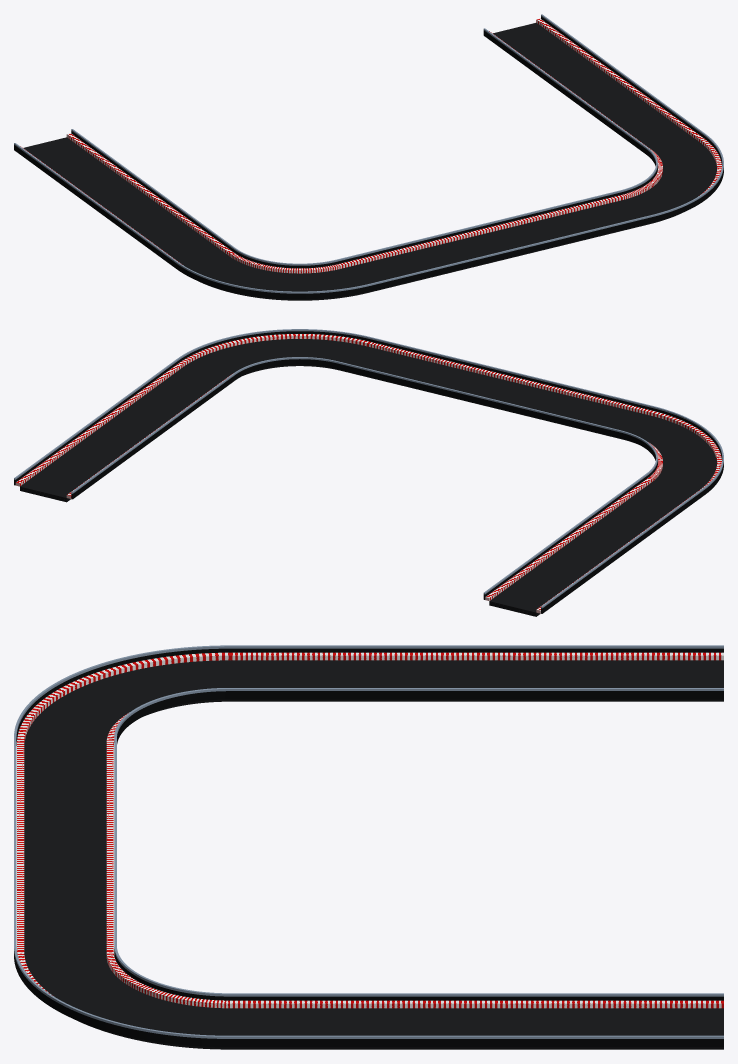
The model's file is S016_SHORT_SEED_1601.glb.
3 renders of one model, top to bottom at view 1: azimuth 30°, elevation 25°; view 2: azimuth 150°, elevation 25°; view 3: azimuth 270°, elevation 25°, orthographic. The views are drawn at different scales.
Parts seen in each view (by area): view 1: S016_SHORT_SEED_1601__instance_002__TRACK_CURVE_LEFT_90__ROA, S016_SHORT_SEED_1601__instance_001__TRACK_STRAIGHT_MEDIUM__R, S016_SHORT_SEED_1601__instance_006__TRACK_STRAIGHT_MEDIUM__R, S016_SHORT_SEED_1601__instance_007__TRACK_STRAIGHT_MEDIUM__R, S016_SHORT_SEED_1601__instance_000__TRACK_STRAIGHT_MEDIUM__R, S016_SHORT_SEED_1601__instance_005__TRACK_CURVE_LEFT_90__ROA, S016_SHORT_SEED_1601__instance_003__TRACK_STRAIGHT_MEDIUM__R, S016_SHORT_SEED_1601__instance_004__TRACK_STRAIGHT_MEDIUM__R, S016_SHORT_SEED_1601__instance_003__TRACK_STRAIGHT_MEDIUM__S (×2), S016_SHORT_SEED_1601__instance_004__TRACK_STRAIGHT_MEDIUM__S (×2), S016_SHORT_SEED_1601__instance_005__TRACK_CURVE_LEFT_90__SUP, S016_SHORT_SEED_1601__instance_003__TRACK_STRAIGHT_MEDIUM__C (+12 smaller); view 2: S016_SHORT_SEED_1601__instance_005__TRACK_CURVE_LEFT_90__ROA, S016_SHORT_SEED_1601__instance_007__TRACK_STRAIGHT_MEDIUM__R, S016_SHORT_SEED_1601__instance_000__TRACK_STRAIGHT_MEDIUM__R, S016_SHORT_SEED_1601__instance_002__TRACK_CURVE_LEFT_90__ROA, S016_SHORT_SEED_1601__instance_001__TRACK_STRAIGHT_MEDIUM__R, S016_SHORT_SEED_1601__instance_006__TRACK_STRAIGHT_MEDIUM__R, S016_SHORT_SEED_1601__instance_004__TRACK_STRAIGHT_MEDIUM__R, S016_SHORT_SEED_1601__instance_003__TRACK_STRAIGHT_MEDIUM__R, S016_SHORT_SEED_1601__instance_004__TRACK_STRAIGHT_MEDIUM__S (×2), S016_SHORT_SEED_1601__instance_002__TRACK_CURVE_LEFT_90__SUP (×2), S016_SHORT_SEED_1601__instance_002__TRACK_CURVE_LEFT_90__CUR, S016_SHORT_SEED_1601__instance_003__TRACK_STRAIGHT_MEDIUM__S (+12 smaller); view 3: S016_SHORT_SEED_1601__instance_000__TRACK_STRAIGHT_MEDIUM__R (×3), S016_SHORT_SEED_1601__instance_001__TRACK_STRAIGHT_MEDIUM__R (×3), S016_SHORT_SEED_1601__instance_006__TRACK_STRAIGHT_MEDIUM__R (×3), S016_SHORT_SEED_1601__instance_007__TRACK_STRAIGHT_MEDIUM__R (×3), S016_SHORT_SEED_1601__instance_003__TRACK_STRAIGHT_MEDIUM__R, S016_SHORT_SEED_1601__instance_004__TRACK_STRAIGHT_MEDIUM__R, S016_SHORT_SEED_1601__instance_005__TRACK_CURVE_LEFT_90__ROA, S016_SHORT_SEED_1601__instance_002__TRACK_CURVE_LEFT_90__ROA, S016_SHORT_SEED_1601__instance_000__TRACK_STRAIGHT_MEDIUM__S (×2), S016_SHORT_SEED_1601__instance_001__TRACK_STRAIGHT_MEDIUM__S (×2), S016_SHORT_SEED_1601__instance_006__TRACK_STRAIGHT_MEDIUM__S (×2), S016_SHORT_SEED_1601__instance_007__TRACK_STRAIGHT_MEDIUM__S (×2) (+12 smaller).
Part boxes in pixels (x1,y1,x2,y2): S016_SHORT_SEED_1601__instance_002__TRACK_CURVE_LEFT_90__ROA: (622,142,716,224); S016_SHORT_SEED_1601__instance_001__TRACK_STRAIGHT_MEDIUM__R: (574,82,698,152); S016_SHORT_SEED_1601__instance_006__TRACK_STRAIGHT_MEDIUM__R: (104,197,228,266); S016_SHORT_SEED_1601__instance_007__TRACK_STRAIGHT_MEDIUM__R: (23,137,147,207); S016_SHORT_SEED_1601__instance_000__TRACK_STRAIGHT_MEDIUM__R: (493,22,617,92); S016_SHORT_SEED_1601__instance_005__TRACK_CURVE_LEFT_90__ROA: (186,256,367,300); S016_SHORT_SEED_1601__instance_003__TRACK_STRAIGHT_MEDIUM__R: (482,200,649,258); S016_SHORT_SEED_1601__instance_004__TRACK_STRAIGHT_MEDIUM__R: (341,234,508,292); S016_SHORT_SEED_1601__instance_003__TRACK_STRAIGHT_MEDIUM__S (×2): (479,193,652,256); S016_SHORT_SEED_1601__instance_004__TRACK_STRAIGHT_MEDIUM__S (×2): (338,227,511,290); S016_SHORT_SEED_1601__instance_005__TRACK_CURVE_LEFT_90__SUP: (176,264,370,299); S016_SHORT_SEED_1601__instance_003__TRACK_STRAIGHT_MEDIUM__C: (479,195,622,234); S016_SHORT_SEED_1601__instance_005__TRACK_CURVE_LEFT_90__ROA: (622,415,716,492); S016_SHORT_SEED_1601__instance_007__TRACK_STRAIGHT_MEDIUM__R: (489,542,613,616); S016_SHORT_SEED_1601__instance_000__TRACK_STRAIGHT_MEDIUM__R: (20,427,144,502); S016_SHORT_SEED_1601__instance_002__TRACK_CURVE_LEFT_90__ROA: (183,339,367,377); S016_SHORT_SEED_1601__instance_001__TRACK_STRAIGHT_MEDIUM__R: (102,367,225,437); S016_SHORT_SEED_1601__instance_006__TRACK_STRAIGHT_MEDIUM__R: (571,482,695,552); S016_SHORT_SEED_1601__instance_004__TRACK_STRAIGHT_MEDIUM__R: (481,381,648,439); S016_SHORT_SEED_1601__instance_003__TRACK_STRAIGHT_MEDIUM__R: (340,346,507,404); S016_SHORT_SEED_1601__instance_004__TRACK_STRAIGHT_MEDIUM__S (×2): (478,373,651,437); S016_SHORT_SEED_1601__instance_002__TRACK_CURVE_LEFT_90__SUP (×2): (178,331,370,379); S016_SHORT_SEED_1601__instance_002__TRACK_CURVE_LEFT_90__CUR: (179,334,369,366); S016_SHORT_SEED_1601__instance_003__TRACK_STRAIGHT_MEDIUM__S: (337,363,477,402); S016_SHORT_SEED_1601__instance_000__TRACK_STRAIGHT_MEDIUM__R (×3): (477,993,723,1049); S016_SHORT_SEED_1601__instance_001__TRACK_STRAIGHT_MEDIUM__R (×3): (230,993,476,1049); S016_SHORT_SEED_1601__instance_006__TRACK_STRAIGHT_MEDIUM__R (×3): (230,645,476,701); S016_SHORT_SEED_1601__instance_007__TRACK_STRAIGHT_MEDIUM__R (×3): (477,645,723,701); S016_SHORT_SEED_1601__instance_003__TRACK_STRAIGHT_MEDIUM__R: (24,851,106,955); S016_SHORT_SEED_1601__instance_004__TRACK_STRAIGHT_MEDIUM__R: (24,747,106,851); S016_SHORT_SEED_1601__instance_005__TRACK_CURVE_LEFT_90__ROA: (24,660,229,747); S016_SHORT_SEED_1601__instance_002__TRACK_CURVE_LEFT_90__ROA: (24,956,229,1049); S016_SHORT_SEED_1601__instance_000__TRACK_STRAIGHT_MEDIUM__S (×2): (477,996,723,1047); S016_SHORT_SEED_1601__instance_001__TRACK_STRAIGHT_MEDIUM__S (×2): (230,996,476,1047); S016_SHORT_SEED_1601__instance_006__TRACK_STRAIGHT_MEDIUM__S (×2): (230,648,476,699); S016_SHORT_SEED_1601__instance_007__TRACK_STRAIGHT_MEDIUM__S (×2): (477,648,723,699).
Bounding box in the file's own units: 45 × 0.92 × 34.5.
72 materials, 72 textured.
